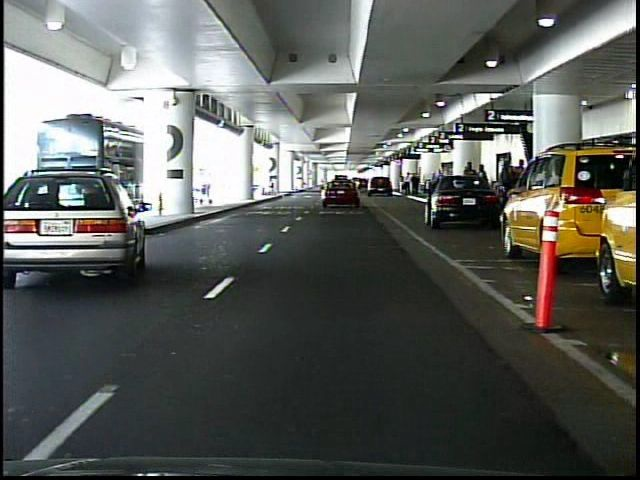person: (495, 159, 515, 213), (462, 160, 478, 208), (476, 163, 489, 207), (403, 171, 412, 197), (411, 173, 419, 197), (398, 175, 405, 191)
